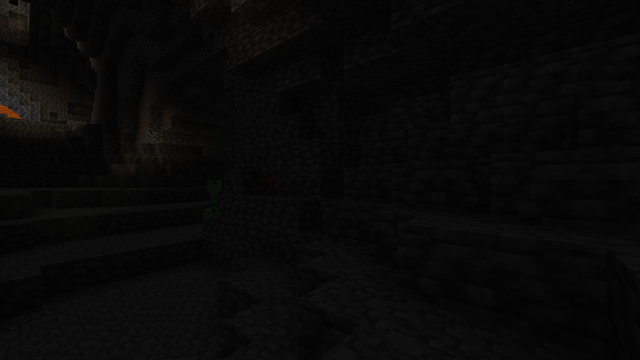creepers: (203, 178, 223, 219)
